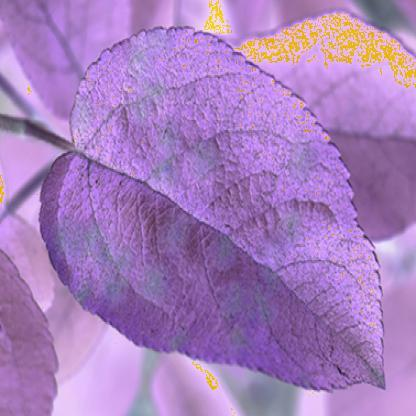Apple Scab Leaf: (36, 21, 392, 398)
